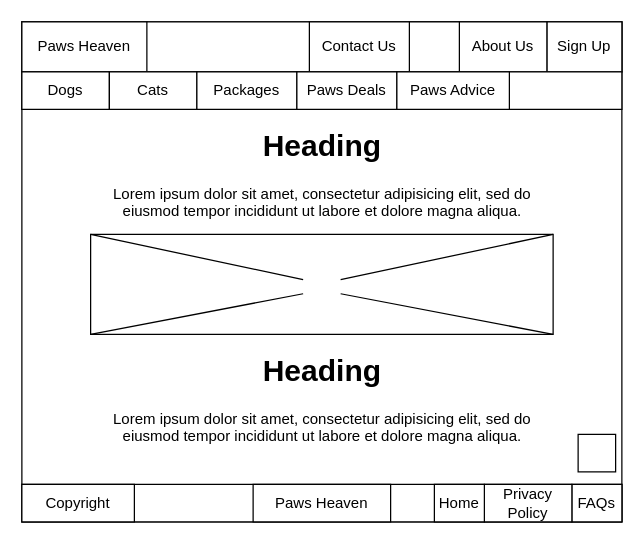
Some shapes in this 644 by 544 pixel diagram are drawn without their labels. The shapes that lost their labels are listed below. From the top down, each one's box as (x1, y1, x2, y2) in pixels, then its label:
(408, 21, 459, 72): T&C
(89, 233, 553, 334): Image
(577, 433, 616, 472): TOP
